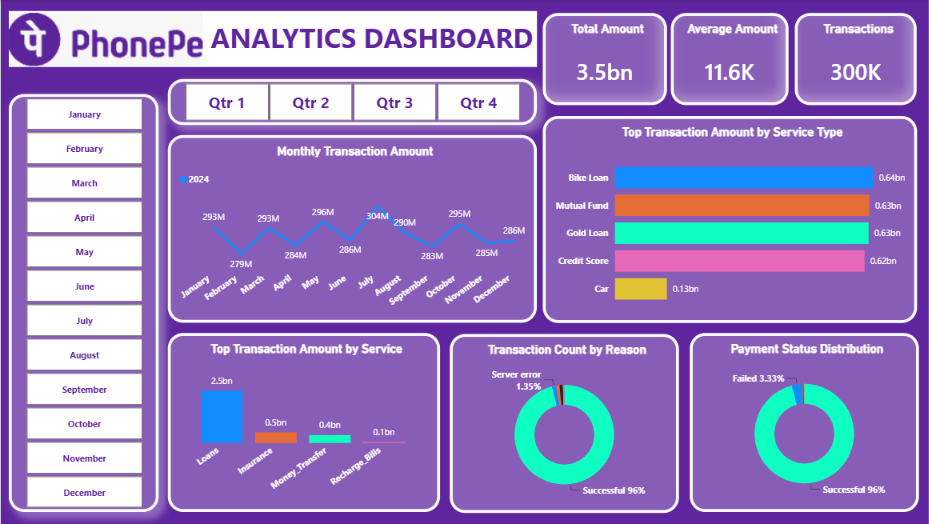

What the dashboard file says about the page in this screenshot:
{"tool":"powerbi","page":{"name":"Page 1","canvas":[1280,720],"ordinal":0},"visuals":[{"type":"lineChart","title":"Monthly Transaction Amount","fields":{"Category":["All_Transactions.Date.Variation.Date Hierarchy.Month"],"Y":["Sum(All_Transactions.Amount)"],"Series":["All_Transactions.Date.Variation.Date Hierarchy.Year"]},"box":[229.2,185.2,506.3,258],"z":0},{"type":"donutChart","title":"Payment Status Distribution","fields":{"Category":["All_Transactions.Payment_Status"],"Y":["CountNonNull(All_Transactions.Payment_Status)"]},"box":[945.5,456.9,314.2,245.6],"z":1000},{"type":"barChart","title":"Top Transaction Amount by Service Type","fields":{"Category":["All_Transactions.Service Type"],"Y":["Sum(All_Transactions.Amount)"]},"box":[743.7,159.2,513.2,284],"z":2000},{"type":"columnChart","title":"Top Transaction Amount by Service","fields":{"Category":["All_Transactions.Service"],"Y":["Sum(All_Transactions.Amount)"]},"box":[229.2,456.9,373.2,245.6],"z":3000},{"type":"donutChart","title":"Transaction Count by Reason","fields":{"Category":["All_Transactions.Reason"],"Y":["CountNonNull(All_Transactions.Reason)"]},"box":[616.1,458.3,314.2,245.6],"z":4000},{"type":"slicer","fields":{"Values":["All_Transactions.Date.Variation.Date Hierarchy.Month"]},"box":[11,129,205.8,573.6],"z":4001},{"type":"cardVisual","title":"Total Amount ","fields":{"Data":["All_Transactions.TotalAmount"]},"box":[743.7,17.8,170.2,126.2],"z":4002},{"type":"textbox","box":[11,15.1,724.5,76.8],"z":4003},{"type":"cardVisual","title":"Average Amount","fields":{"Data":["All_Transactions.AverageAmount"]},"box":[919.4,17.8,161.9,126.2],"z":4004},{"type":"cardVisual","title":"Transactions","fields":{"Data":["All_Transactions.TotalTransactions"]},"box":[1089.5,17.8,167.4,126.2],"z":4005},{"type":"slicer","fields":{"Values":["All_Transactions.Date.Variation.Date Hierarchy.Quarter"]},"box":[229.2,108.4,506.3,63.1],"z":4006},{"type":"image","box":[11,0,266.2,108.4],"z":4007}]}

Visuals, with their boxes in screenshot pixels (x1, y1, x2, y2), scaled from the page's 1280x720 canvas onto the 929x524 screenshot:
"Monthly Transaction Amount" lineChart: BBox(166, 135, 534, 323)
"Payment Status Distribution" donutChart: BBox(686, 333, 914, 511)
"Top Transaction Amount by Service Type" barChart: BBox(540, 116, 912, 323)
"Top Transaction Amount by Service" columnChart: BBox(166, 333, 437, 511)
"Transaction Count by Reason" donutChart: BBox(447, 334, 675, 512)
slicer - All_Transactions.Date.Variation.Date Hierarchy.Month: BBox(8, 94, 157, 511)
"Total Amount " cardVisual: BBox(540, 13, 663, 105)
textbox: BBox(8, 11, 534, 67)
"Average Amount" cardVisual: BBox(667, 13, 785, 105)
"Transactions" cardVisual: BBox(791, 13, 912, 105)
slicer - All_Transactions.Date.Variation.Date Hierarchy.Quarter: BBox(166, 79, 534, 125)
image: BBox(8, 0, 201, 79)
